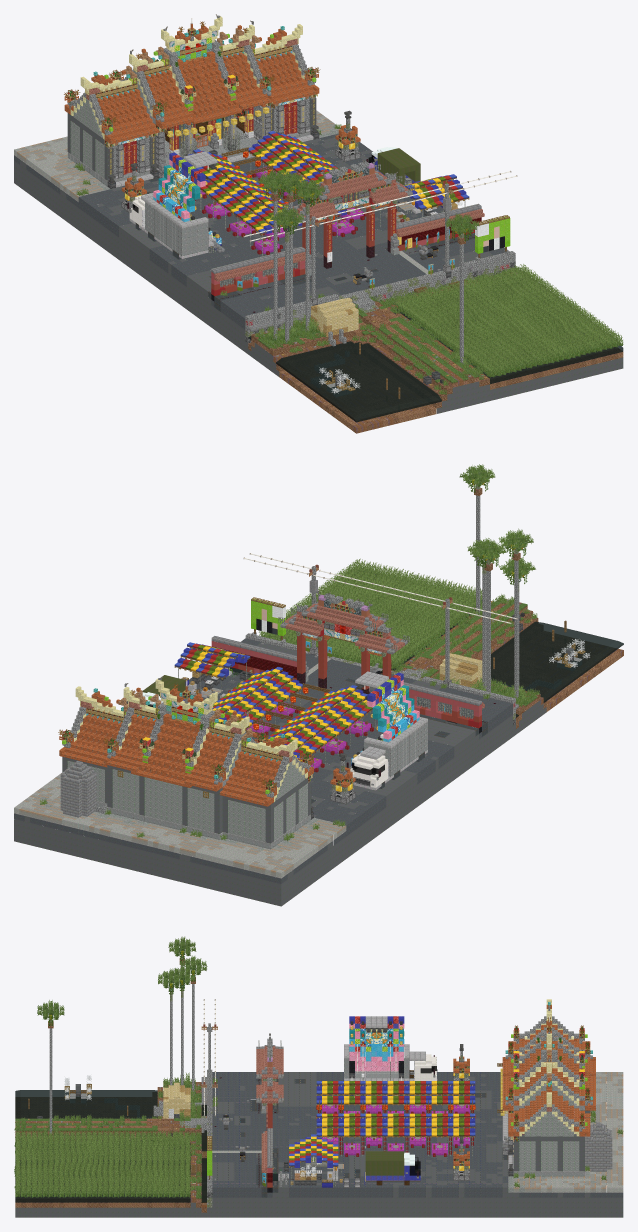
File: taiwan-map.glb
3 views of the same model, one above another, from view 1: azimuth 30°, elevation 25°; view 2: azimuth 150°, elevation 25°; view 3: azimuth 270°, elevation 25° (orthographic). The views are drawn at different scales.
Visible parts, largest first — view 1: cutout, transparent; view 2: cutout, transparent; view 3: cutout, transparent.
Boxes of the visible parts, x1,y1,x2,y2 form: cutout: [14, 14, 623, 433]; transparent: [132, 111, 623, 422]; cutout: [14, 464, 623, 906]; transparent: [148, 571, 623, 775]; cutout: [14, 936, 623, 1217]; transparent: [15, 1066, 436, 1202].
Bounding box in the file's own units: 50.39 × 34.01 × 111.
2 materials, 2 textured.
